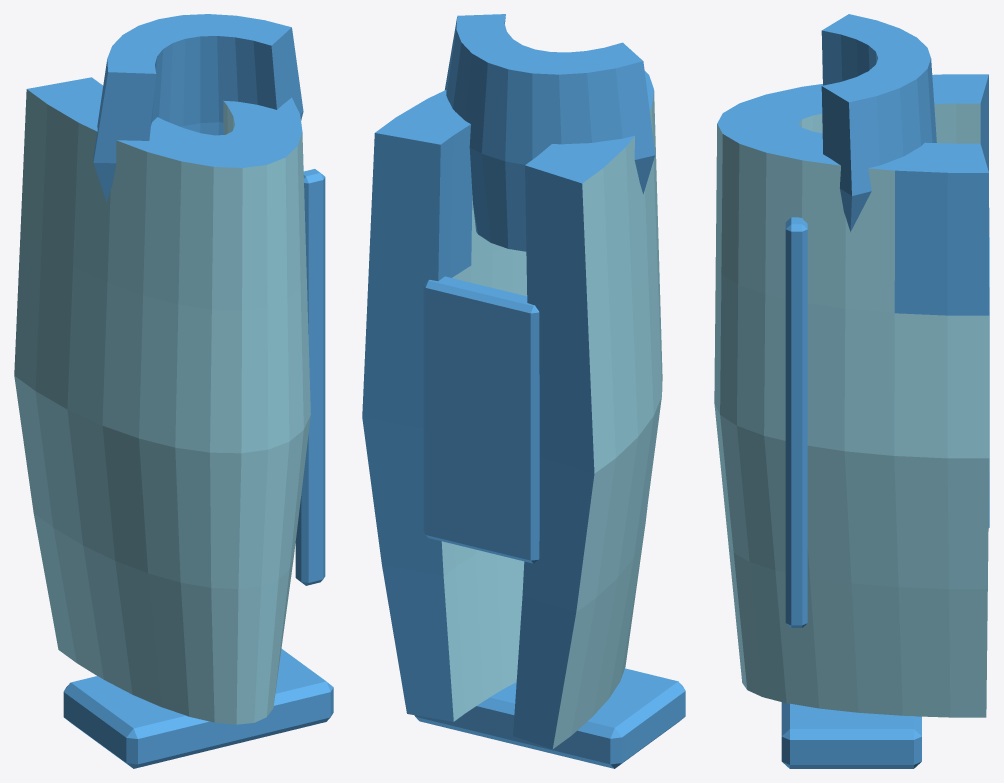
File: left_forearm.glb
The picture shows the model from 3 angles, left to right: view 1: azimuth 30°, elevation 25°; view 2: azimuth 150°, elevation 25°; view 3: azimuth 270°, elevation 25°; orthographic projection. The views are drawn at different scales.
Parts seen in each view (by area): view 1: armor_left_forearm_v001; view 2: armor_left_forearm_v001; view 3: armor_left_forearm_v001.
Part boxes in pixels (x1,y1,x2,y2): armor_left_forearm_v001: [14, 14, 333, 768]; armor_left_forearm_v001: [362, 14, 685, 768]; armor_left_forearm_v001: [714, 14, 989, 768].
Size of the model in its own units: 0.0948 by 0.266 by 0.0999.
